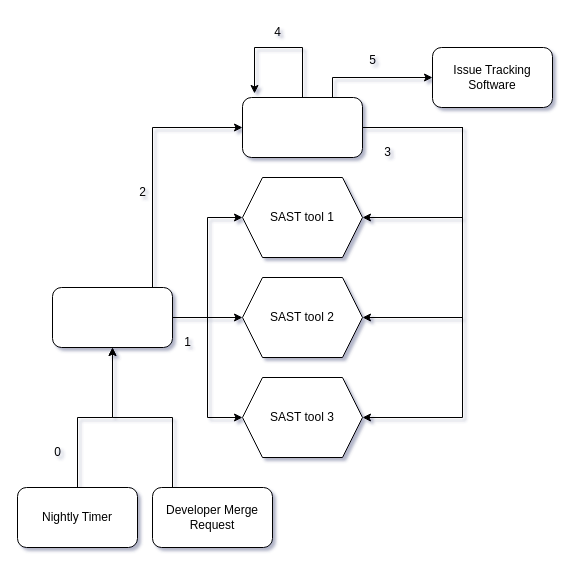
This 576x571 diagram has some shape labels left out. The box of each missing label's shape, as (x1, y1, x2, y2) in pixels:
CI/CD Pipeline: (52, 286, 172, 348)
Controller Script: (242, 96, 362, 158)
